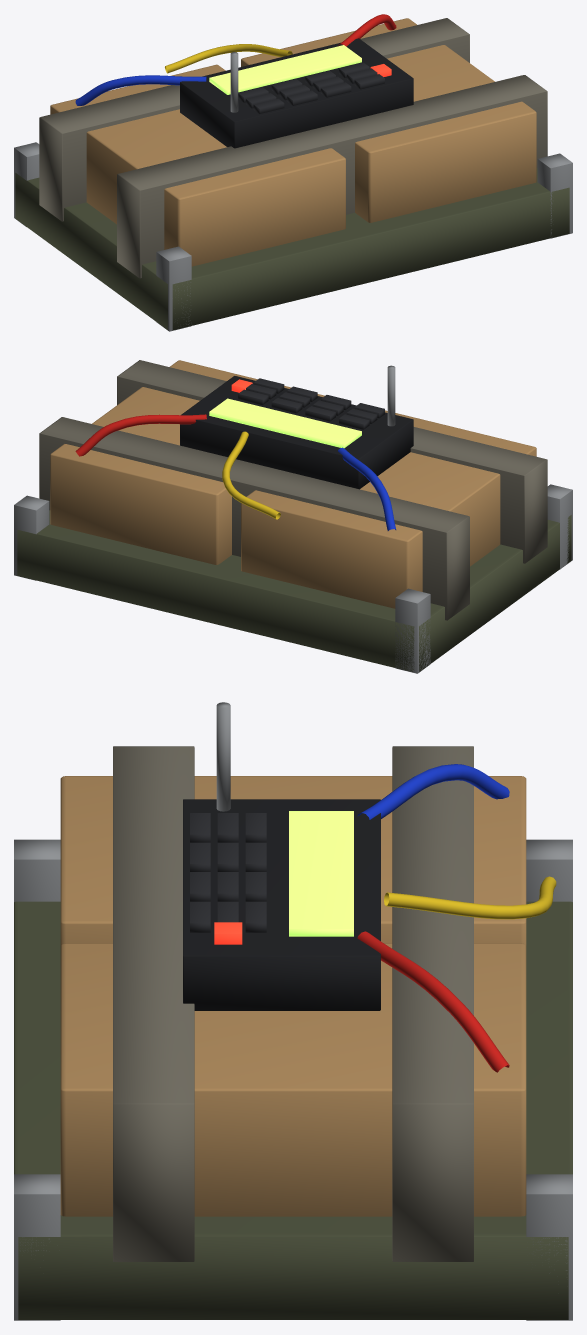
The picture shows the model from 3 angles, top to bottom: view 1: azimuth 30°, elevation 25°; view 2: azimuth 150°, elevation 25°; view 3: azimuth 270°, elevation 25°; orthographic projection. The views are drawn at different scales.
Parts seen in each view (by area): view 1: C4; view 2: C4; view 3: C4.
Boxes of the visible parts, x1,y1,x2,y2 form: C4: (14,14,572,331); C4: (14,360,572,673); C4: (14,702,572,1320).
Size of the model in its own units: 0.364 by 0.175 by 0.24.
